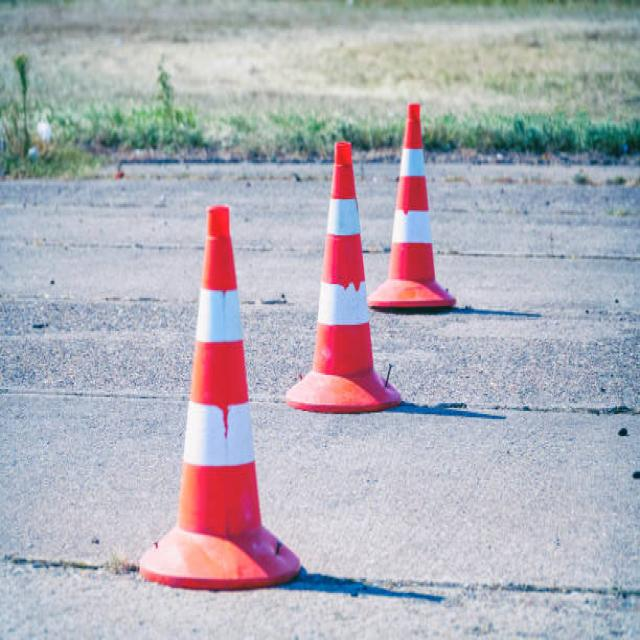Traffic Cone: (129, 157, 321, 620), (274, 110, 414, 439), (370, 84, 456, 316)
